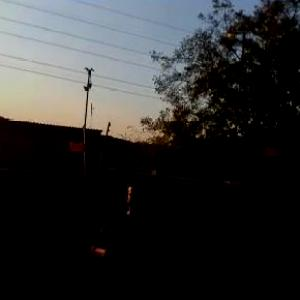follow: (82, 170, 168, 299)
